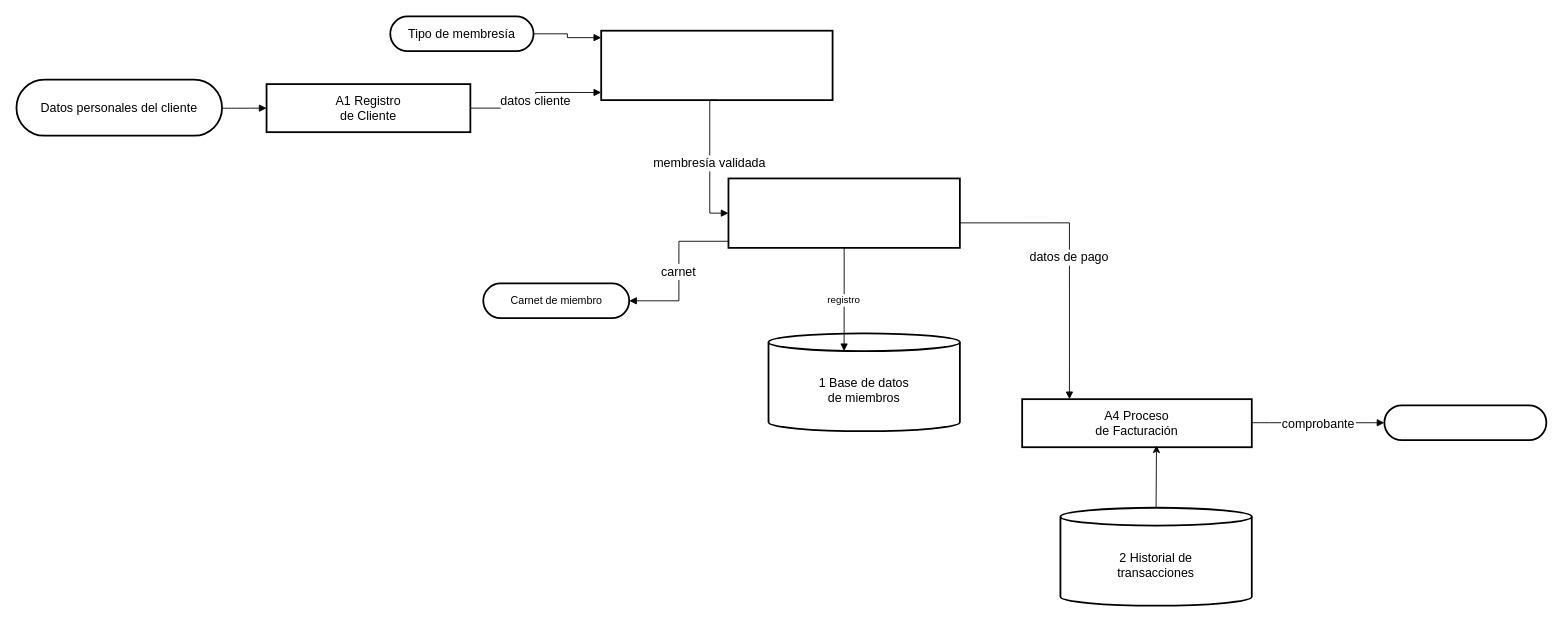
Some shapes in this 1562 by 621 pixel diagram are drawn without their labels. Each missing label, with the box of its shape:
A2 Procesamiento de Membresía: (600, 29, 833, 101)
A3 Generación de Documentos: (727, 177, 960, 248)
Comprobante de pago: (1383, 404, 1547, 441)
